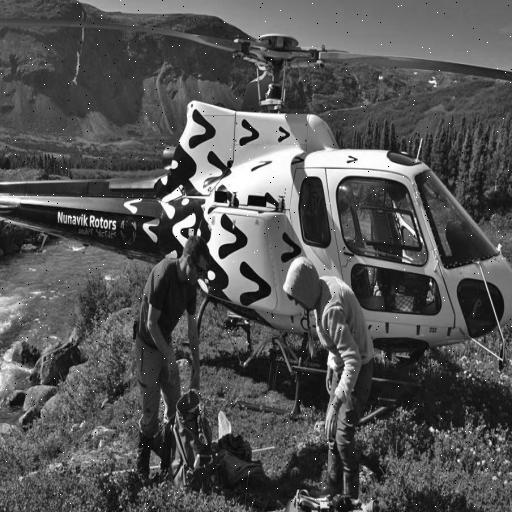helicopter: (1, 17, 512, 445)
